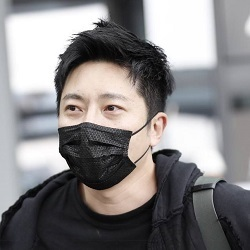mask: (55, 111, 137, 190)
